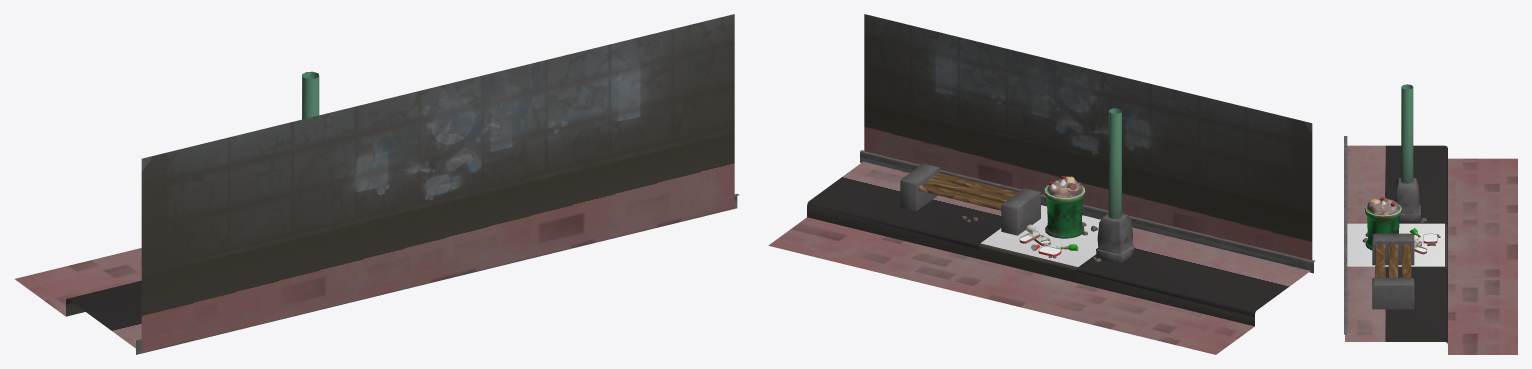
File: HighResTunaMap_combined.fbx
The picture shows the model from 3 angles, left to right: view 1: azimuth 30°, elevation 25°; view 2: azimuth 150°, elevation 25°; view 3: azimuth 270°, elevation 25°; orthographic projection. The views are drawn at different scales.
Parts seen in each view (by area): view 1: StreetStreet.001, BigStuff; view 2: StreetStreet.001, BigStuff, TrashLamp; view 3: StreetStreet.001, BigStuff, TrashLamp.
Boxes of the visible parts, <box> form: StreetStreet.001: <box>15,14,739,354</box>; BigStuff: <box>302,71,319,119</box>; StreetStreet.001: <box>768,14,1315,354</box>; BigStuff: <box>900,108,1134,263</box>; TrashLamp: <box>1044,175,1085,238</box>; StreetStreet.001: <box>1344,136,1517,354</box>; BigStuff: <box>1372,84,1420,309</box>; TrashLamp: <box>1365,197,1401,250</box>.
Bounding box in the file's own units: 131015 × 44474 × 48370.
